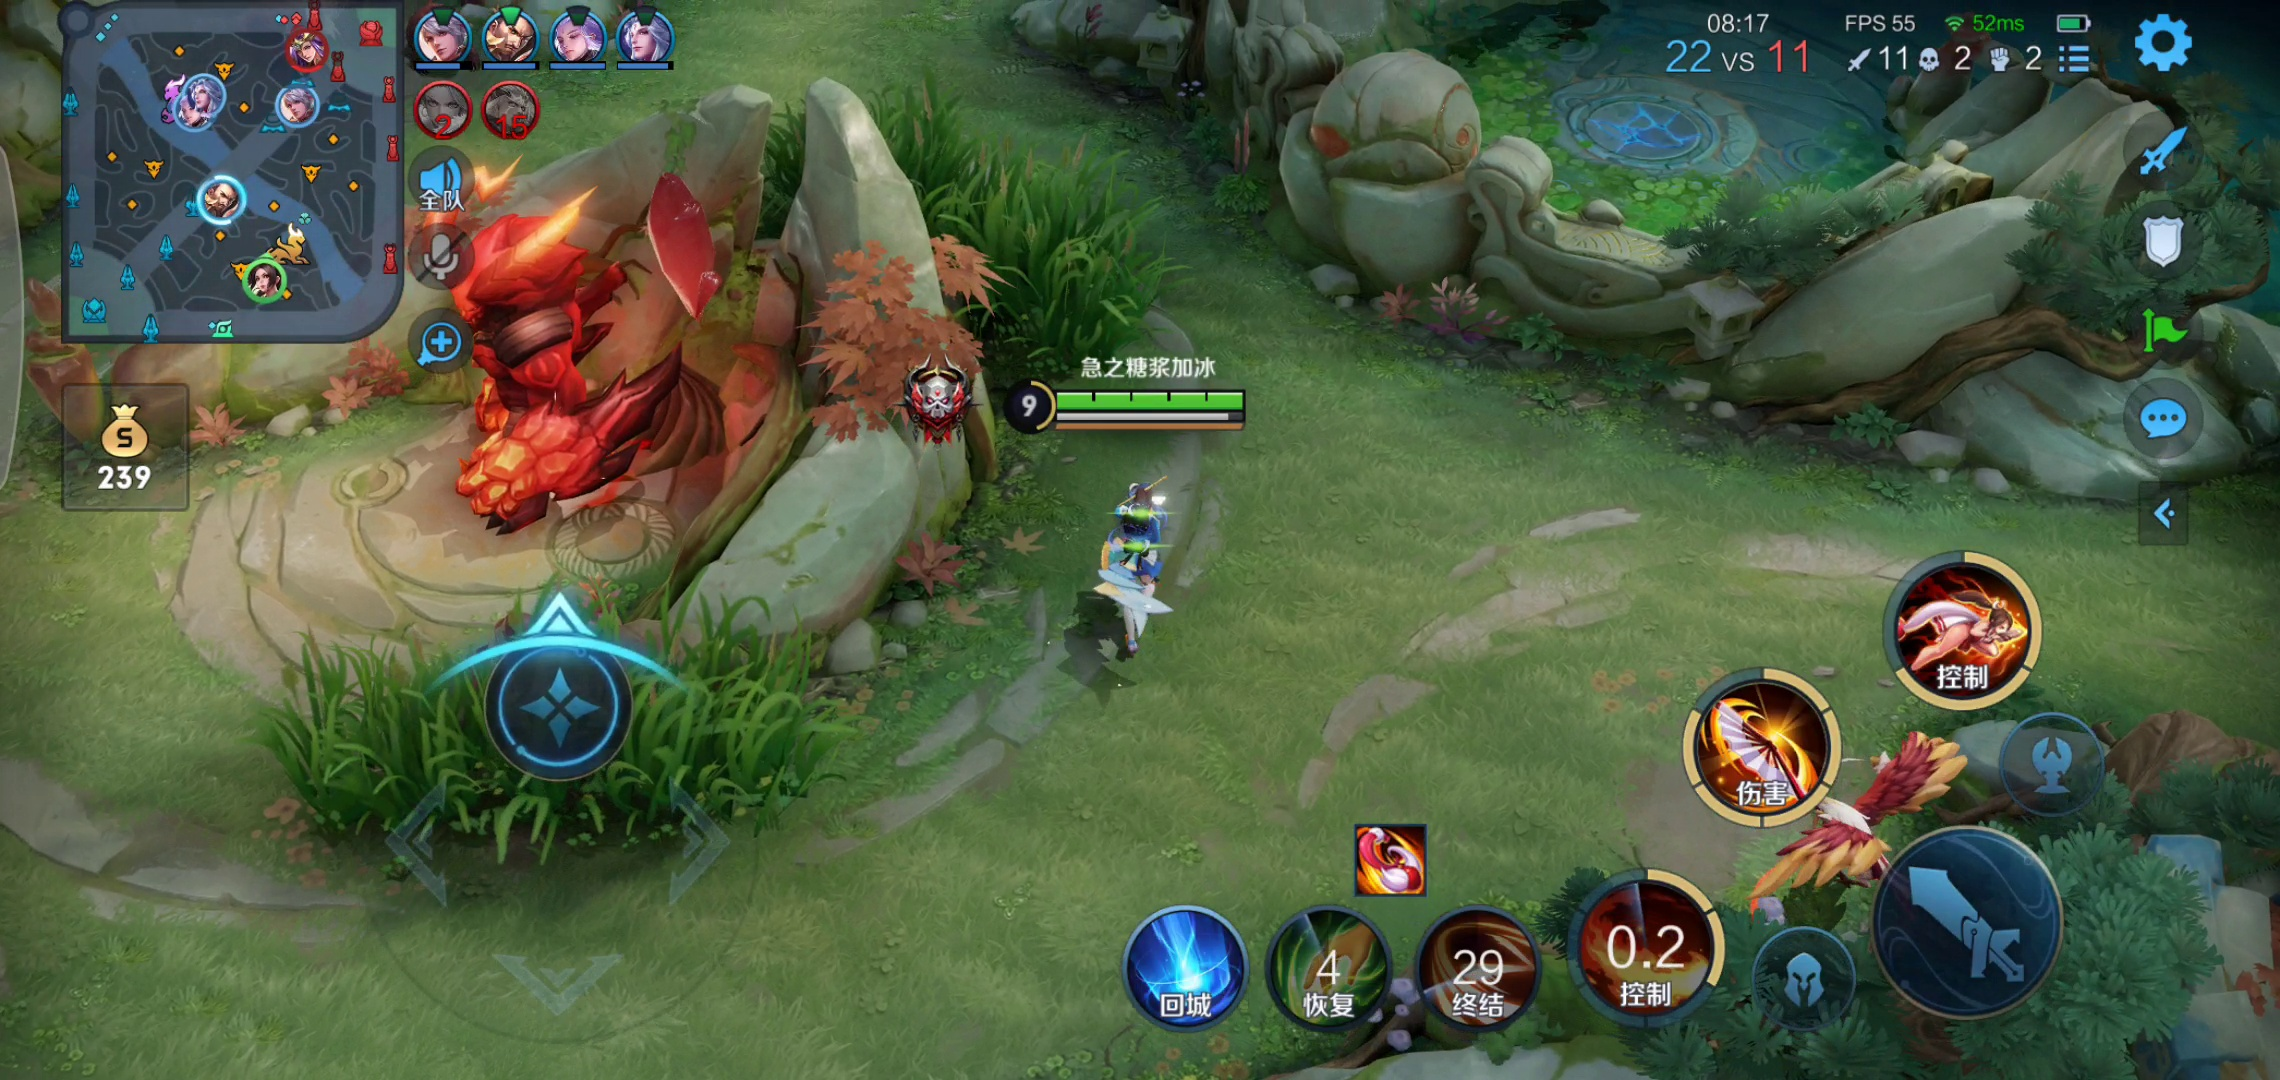buff: (393, 205, 699, 548)
grass: (260, 642, 896, 846), (720, 100, 1160, 365)
hero: (1072, 471, 1195, 658)
wild_monster: (1767, 746, 1940, 924)
